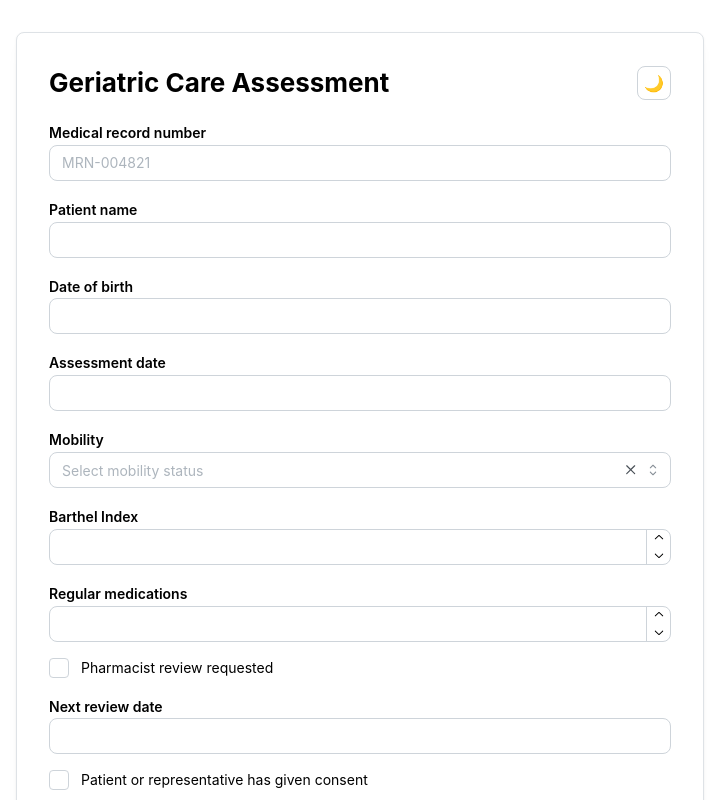
Test case: AssessmentForm › keeps untouched fields quiet and runs validation on blur and submit
Expected: the text "Must look like MRN-004821" is not shown
Expected: the text "Date of birth is required" is not shown
# Blur a single invalid field: validation runs for that field while untouched fields stay quiet
Type "INVALID" into the field labelled "Medical record number" at [360, 163], box [49,145,671,181]
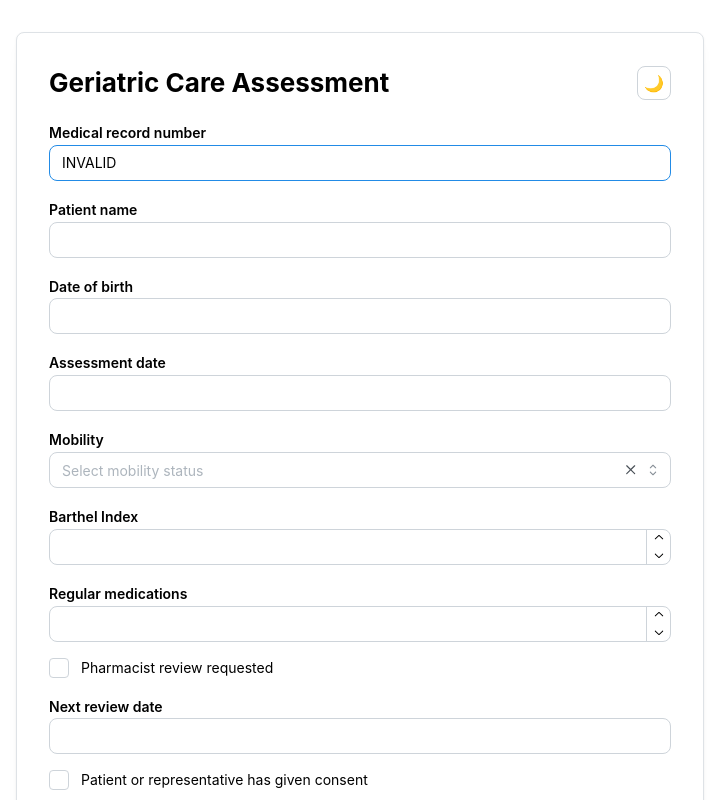
Press Tab
(page scrolled)
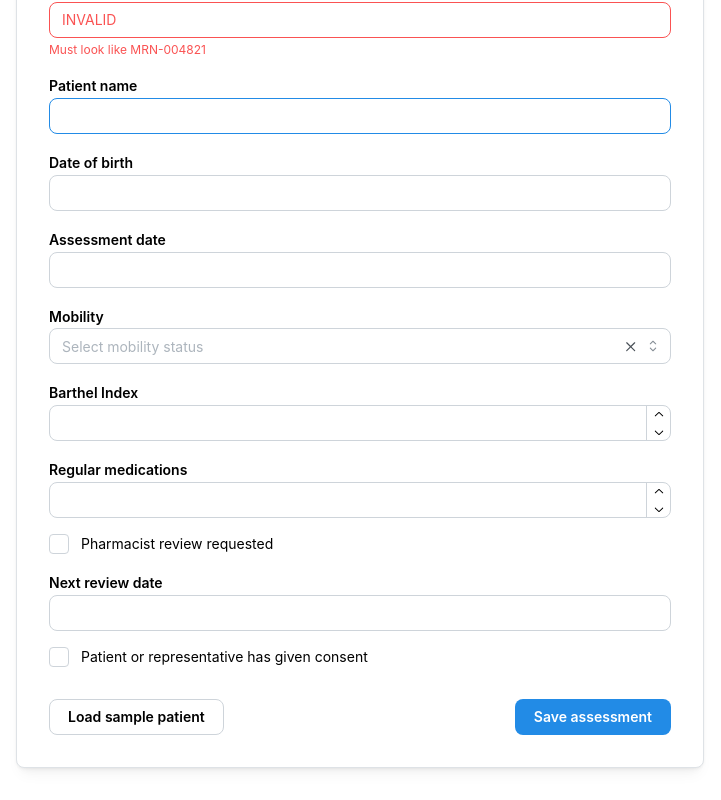
Expected: the text "Date of birth is required" is not shown
Expected: the text "Must look like MRN-004821" is shown, [49,42,206,57]
# Submit empty / invalid form: validation runs on submit for all fields, showing exactly 9 errors
Click the button "Save assessment" at [593, 717], box [515,699,671,735]
(page scrolled)
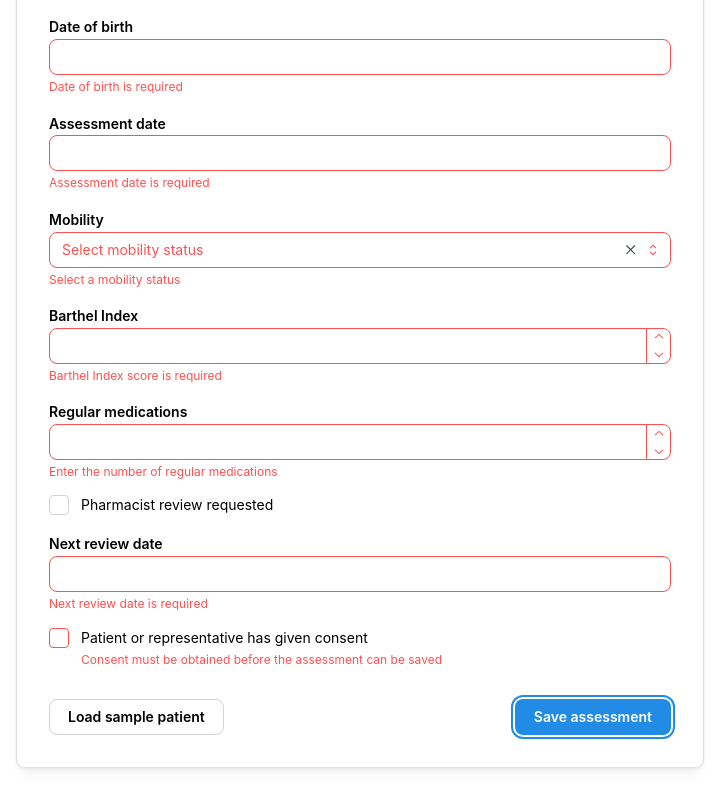
Expected: the text "Date of birth is required" is shown, [49,79,183,94]
Expected: the text "Assessment date is required" is shown, [49,176,210,190]
Expected: the text "Select a mobility status" is shown, [49,272,180,287]
